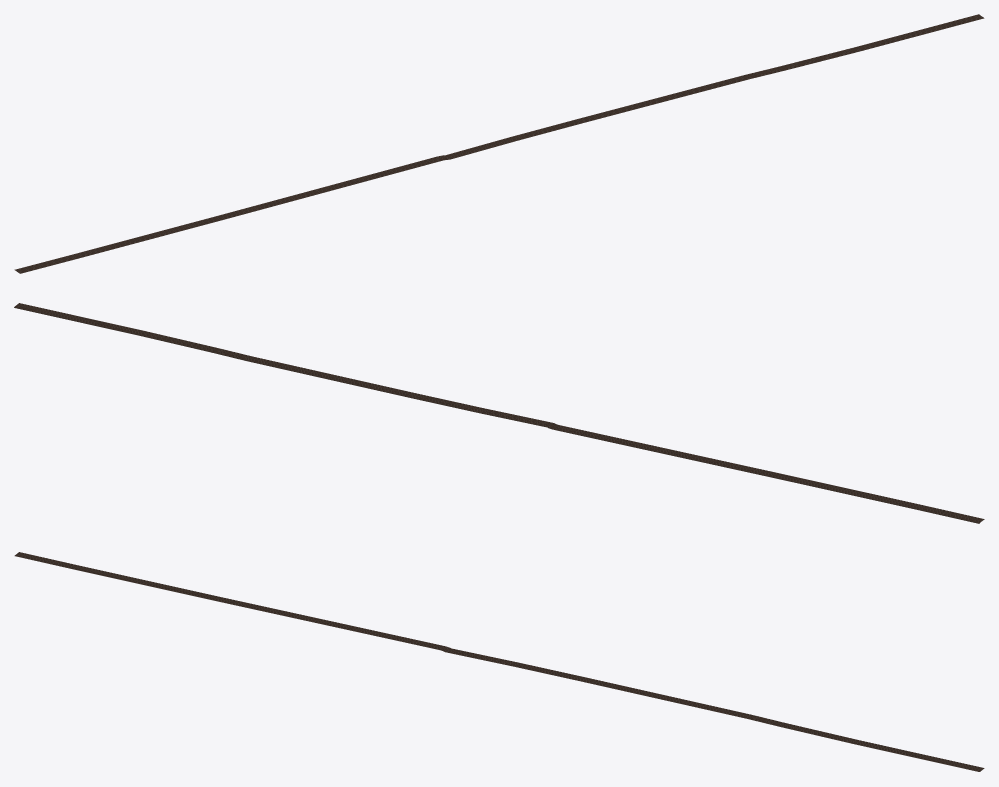
The model's file is kobe_0011.glb.
3 renders of one model, top to bottom at view 1: azimuth 30°, elevation 25°; view 2: azimuth 150°, elevation 25°; view 3: azimuth 330°, elevation 25°, orthographic. The views are drawn at different scales.
Parts seen in each view (by area): view 1: ballast_top, oxidised_rail_profiles; view 2: ballast_top, oxidised_rail_profiles, ballast_left; view 3: ballast_top, oxidised_rail_profiles.
Boxes of the visible parts, left/top/right/bottom form: ballast_top: left=14, top=14, right=984, bottom=273; oxidised_rail_profiles: left=15, top=14, right=983, bottom=272; ballast_top: left=14, top=303, right=984, bottom=522; oxidised_rail_profiles: left=15, top=303, right=983, bottom=522; ballast_left: left=14, top=307, right=979, bottom=523; ballast_top: left=14, top=552, right=984, bottom=771; oxidised_rail_profiles: left=15, top=552, right=983, bottom=771.
Bounding box in the file's own units: 754 × 0.819 × 35.59.
Materials: 4 (3 with a texture image).
